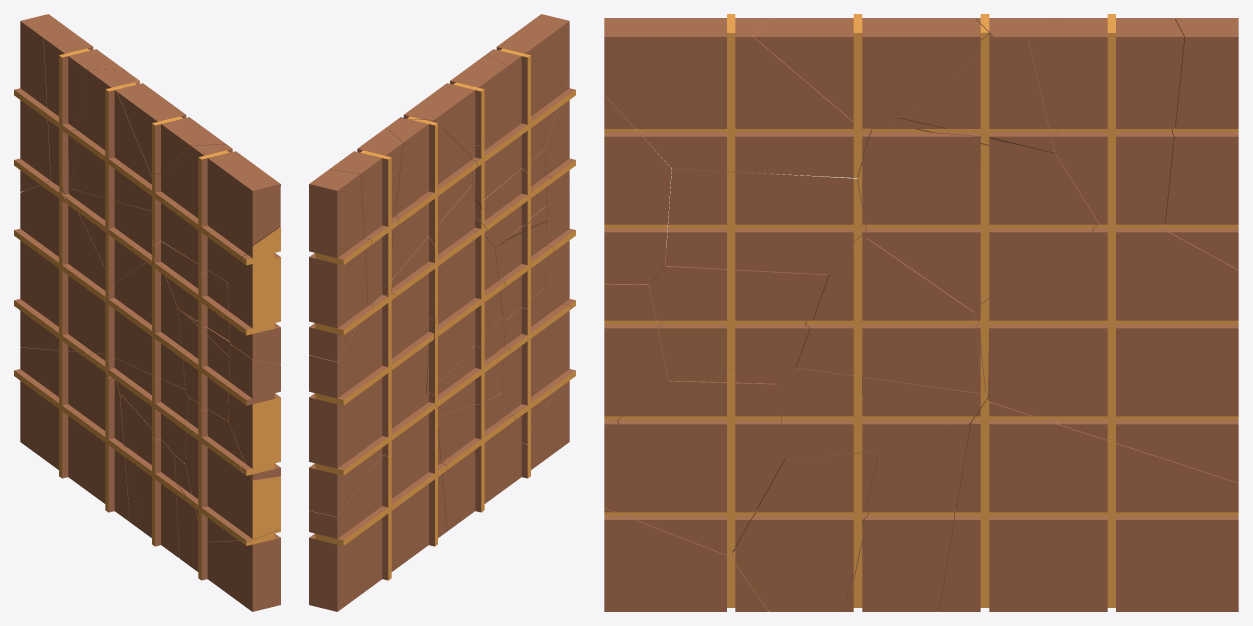
The model's file is Destroyed Wall.fbx.
3 renders of one model, left to right at view 1: azimuth 30°, elevation 25°; view 2: azimuth 150°, elevation 25°; view 3: azimuth 270°, elevation 25°, orthographic. The views are drawn at different scales.
Visible parts, largest first — view 1: Cube_cell.003, Cube_cell.014, Cube_cell.015, Cube_cell.013, Cube_cell.010, Cube_cell.004, Cube_cell.001, Cube_cell.019, Cube_cell.002, Cube_cell.018, Cube_cell.005, Cube_cell.017 (+8 smaller); view 2: Cube_cell.015, Cube_cell.003, Cube_cell.014, Cube_cell.005, Cube_cell.010, Cube_cell.013, Cube_cell.004, Cube_cell.002, Cube_cell.018, Cube_cell.009, Cube_cell.012, Cube_cell (+7 smaller); view 3: Cube_cell.003, Cube_cell.015, Cube_cell.014, Cube_cell.009, Cube_cell.002, Cube_cell.013, Cube_cell.004, Cube_cell.008, Cube_cell.016, Cube_cell.011, Cube_cell.012, Cube_cell.007 (+6 smaller).
Part boxes in pixels (x1,y1,x2,y2): Cube_cell.003: (14,347,129,521); Cube_cell.014: (148,144,280,282); Cube_cell.015: (14,182,105,354); Cube_cell.013: (180,397,280,544); Cube_cell.010: (69,69,151,210); Cube_cell.004: (105,255,185,389); Cube_cell.001: (223,345,280,480); Cube_cell.019: (222,226,280,364); Cube_cell.002: (42,28,125,192); Cube_cell.018: (117,394,185,557); Cube_cell.005: (14,14,67,191); Cube_cell.017: (191,529,280,611); Cube_cell.015: (309,293,434,516); Cube_cell.003: (309,395,446,611); Cube_cell.014: (471,14,571,210); Cube_cell.005: (309,169,374,361); Cube_cell.010: (386,118,477,279); Cube_cell.013: (502,287,575,444); Cube_cell.004: (426,223,505,395); Cube_cell.002: (329,127,402,305); Cube_cell.018: (438,399,514,523); Cube_cell.009: (391,184,481,319); Cube_cell.012: (399,54,507,155); Cube_cell: (426,318,509,416); Cube_cell.003: (939,397,1238,611); Cube_cell.015: (975,221,1238,482); Cube_cell.014: (604,14,871,177); Cube_cell.009: (857,118,1099,311); Cube_cell.002: (1028,14,1184,224); Cube_cell.013: (604,374,785,554); Cube_cell.004: (796,225,985,393); Cube_cell.008: (665,168,866,274); Cube_cell.016: (649,248,828,383); Cube_cell.011: (732,450,881,611); Cube_cell.012: (754,14,992,129); Cube_cell.007: (844,424,969,611).
Bounding box in the file's own units: 17.11 × 200 × 200.
